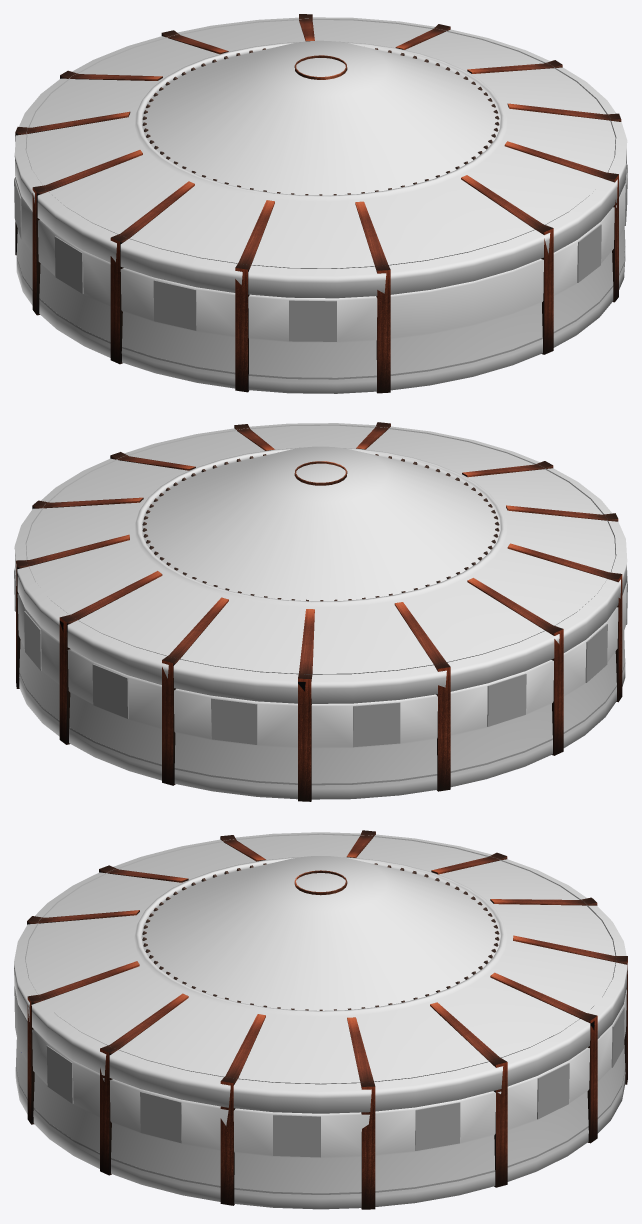
Rendered from SmartOBM.fbx.
The picture shows the model from 3 angles, top to bottom: view 1: azimuth 30°, elevation 25°; view 2: azimuth 150°, elevation 25°; view 3: azimuth 270°, elevation 25°; orthographic projection.
Parts seen in each view (by area): view 1: Hall_Center, Hall_Pole, Hall_Glass, Hall_Top, Hall_Down, Hall_wood_celling; view 2: Hall_Center, Hall_Pole, Hall_Glass, Hall_Top, Hall_Down, Hall_wood_celling; view 3: Hall_Center, Hall_Pole, Hall_Glass, Hall_Top, Hall_Down, Hall_wood_celling.
Boxes of the visible parts, bbox=[...] form: Hall_Center: bbox=[14, 17, 627, 393]; Hall_Pole: bbox=[15, 14, 621, 393]; Hall_Glass: bbox=[14, 164, 627, 341]; Hall_Top: bbox=[25, 18, 616, 268]; Hall_Down: bbox=[16, 245, 625, 379]; Hall_wood_celling: bbox=[142, 48, 499, 195]; Hall_Center: bbox=[14, 423, 627, 799]; Hall_Pole: bbox=[16, 422, 622, 801]; Hall_Glass: bbox=[14, 568, 627, 747]; Hall_Top: bbox=[25, 424, 616, 674]; Hall_Down: bbox=[19, 662, 625, 785]; Hall_wood_celling: bbox=[142, 454, 499, 601]; Hall_Center: bbox=[14, 832, 627, 1209]; Hall_Pole: bbox=[27, 830, 627, 1209]; Hall_Glass: bbox=[46, 1007, 624, 1157]; Hall_Top: bbox=[25, 833, 616, 1084]; Hall_Down: bbox=[16, 1066, 625, 1194]; Hall_wood_celling: bbox=[142, 863, 499, 1010].
Size of the model in its own units: 1533 by 592 by 1529.
